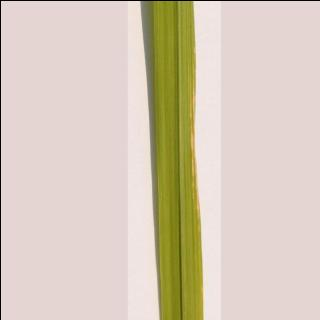Hawar-Daun: (177, 40, 206, 243)
